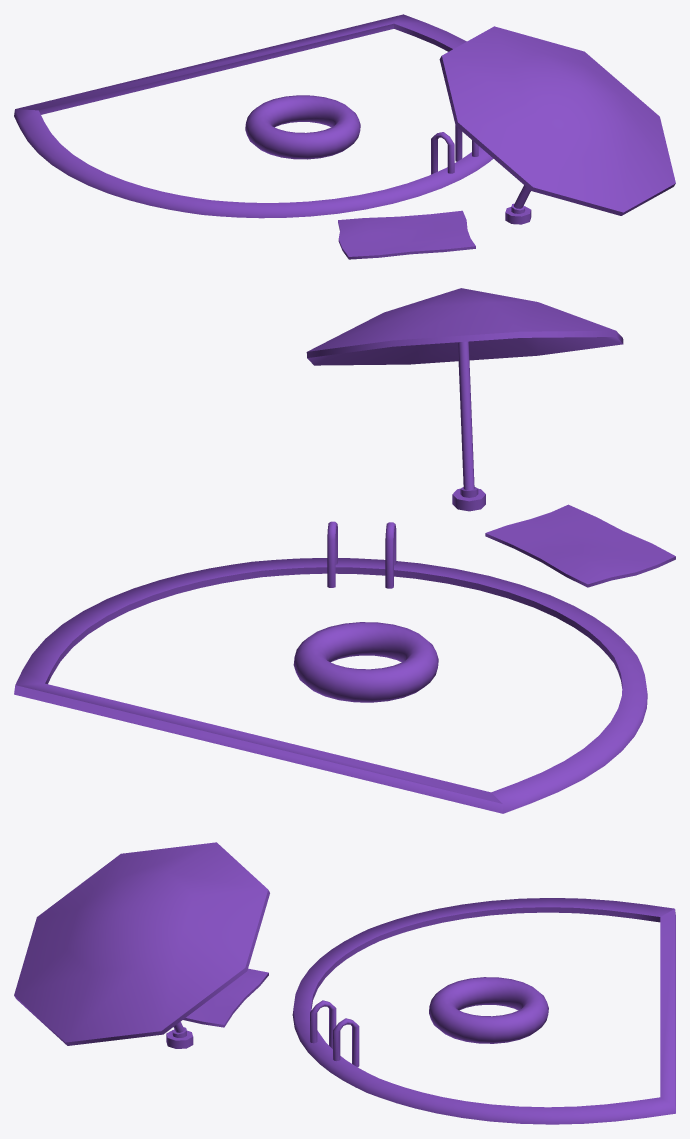
Rendered from SM_decor_finish.FBX.
3 views of the same model, one above another, from view 1: azimuth 30°, elevation 25°; view 2: azimuth 150°, elevation 25°; view 3: azimuth 270°, elevation 25° (orthographic). The views are drawn at different scales.
Parts seen in each view (by area): view 1: pool, buoy; view 2: pool, buoy; view 3: pool, buoy.
Part boxes in pixels (x1,y1,x2,y2): pool: (14,14,675,259); buoy: (245,95,360,159); pool: (14,288,675,813); buoy: (293,622,438,702); pool: (14,842,675,1124); buoy: (429,977,548,1043).
Size of what is drawn, in the model's own units: 560 by 220 by 713.
